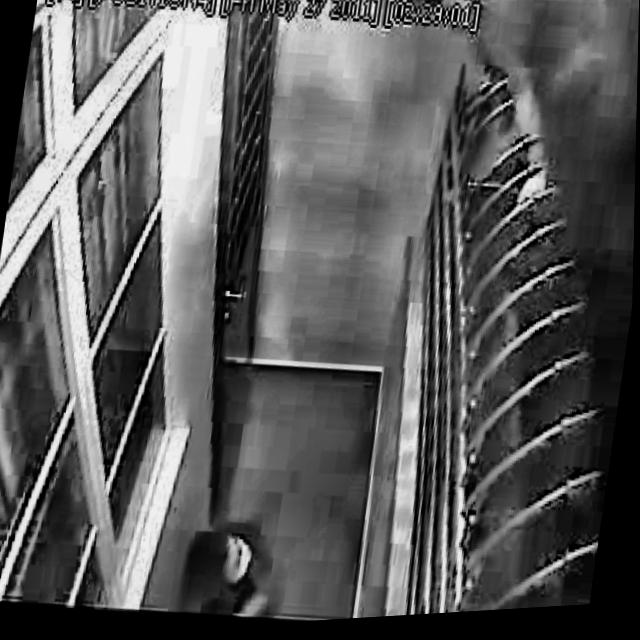burglary: (367, 0, 596, 242), (174, 513, 293, 625)
